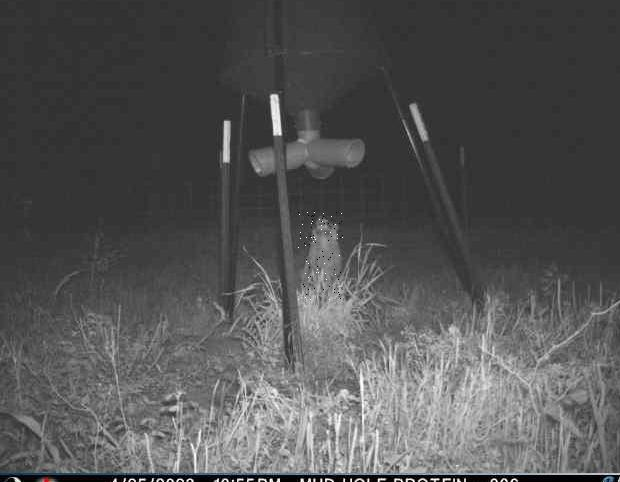Raccoon: (298, 212, 343, 301)
